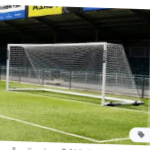goals: (5, 40, 142, 106)
